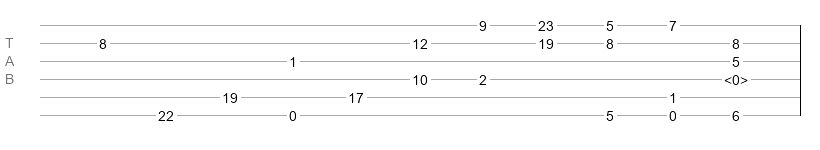0: (289, 108, 297, 118), (669, 108, 677, 118)
1: (289, 54, 297, 64), (669, 90, 677, 100)
10: (412, 72, 428, 82)
12: (412, 36, 428, 46)
17: (348, 90, 364, 100)
19: (222, 90, 238, 100), (538, 36, 554, 46)
2: (479, 72, 487, 82)
22: (158, 108, 174, 118)
23: (538, 18, 554, 28)
5: (606, 18, 614, 28), (606, 108, 614, 118), (732, 54, 740, 64)
6: (732, 108, 740, 118)
7: (669, 18, 677, 28)
8: (99, 36, 107, 46), (606, 36, 614, 46), (732, 36, 740, 46)
9: (479, 18, 487, 28)
harmonic: (724, 72, 748, 82)
